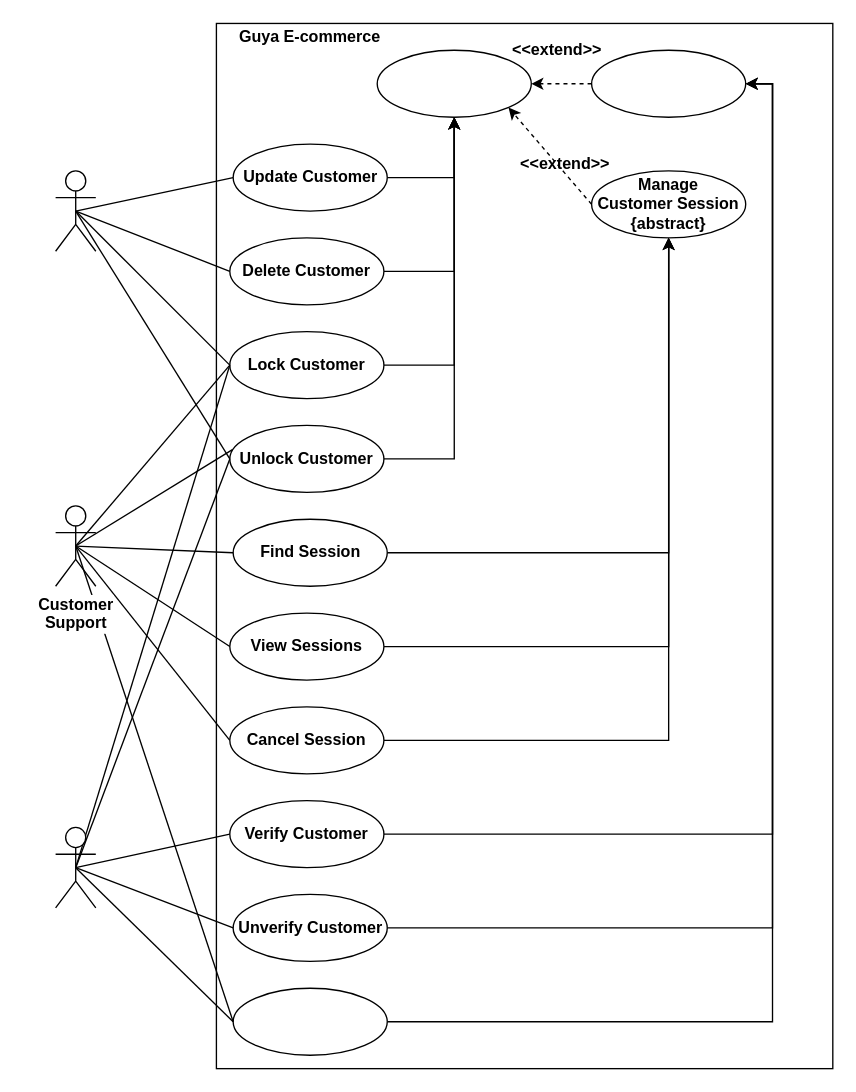
The diagram is 856 pixels wide and 1092 high, and some of its shapes have lost their labels. The centre of each missing label's shape, as x and y in pixels:
Identity Management: (75,867)
Manage Customer {abstract}: (453,83)
Manage CustomerVerification {abstract}: (668,83)
View Customer Verification: (309,1021)
Website Administrator: (75,210)
